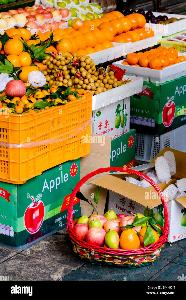orange: (38, 6, 180, 56), (0, 22, 56, 80), (122, 42, 186, 74)
